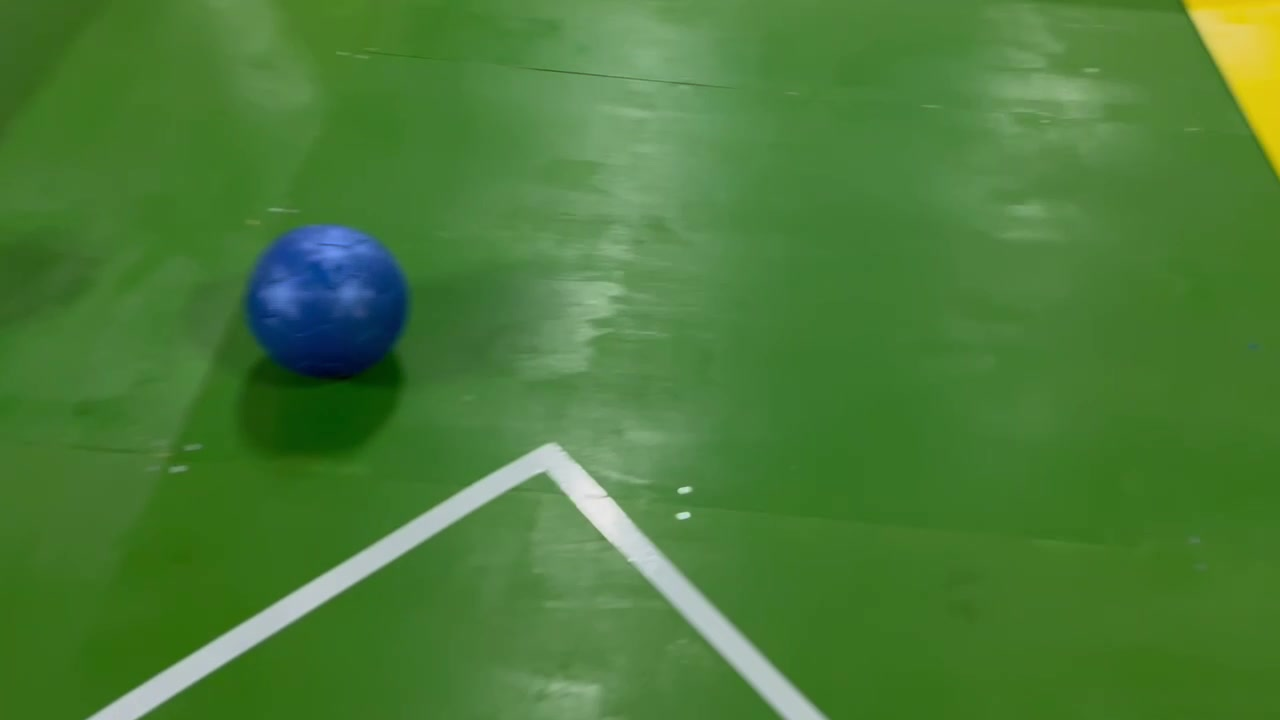blue: (235, 234, 413, 382)
